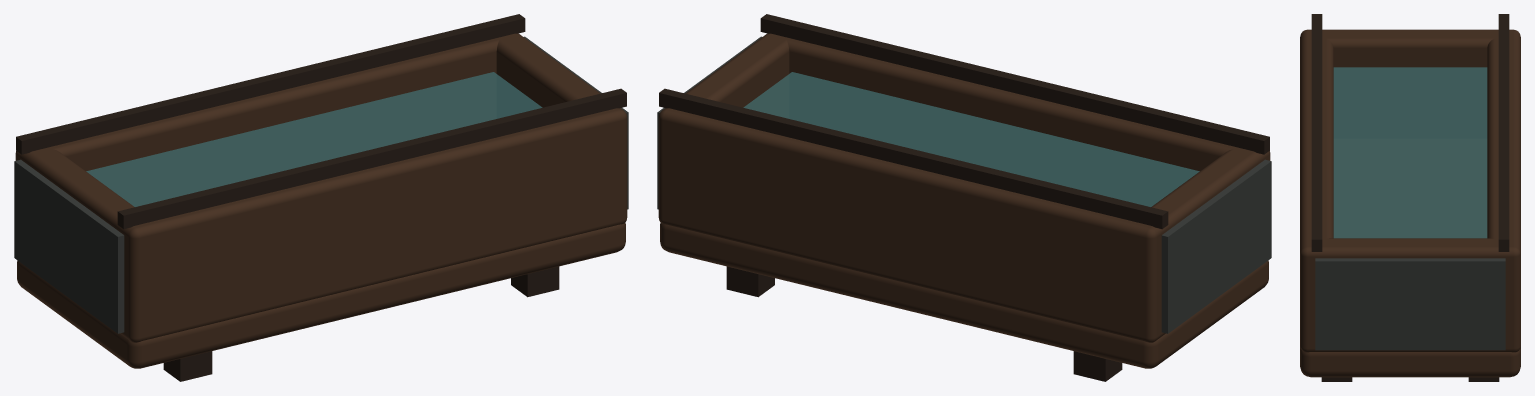
The model's file is sk_water_trough.glb.
The picture shows the model from 3 angles, left to right: view 1: azimuth 30°, elevation 25°; view 2: azimuth 150°, elevation 25°; view 3: azimuth 270°, elevation 25°; orthographic projection. The views are drawn at different scales.
Size of the model in its own units: 1.76 by 0.6125 by 0.72.
